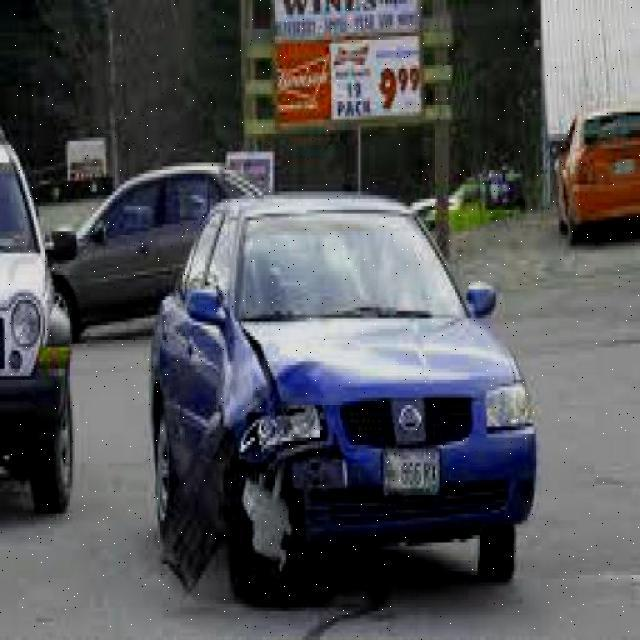car damage: (167, 332, 339, 595)
